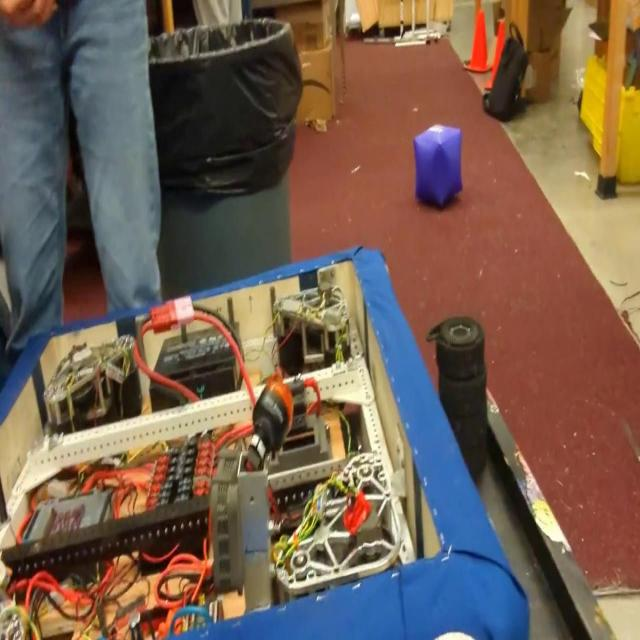frc_cube: (413, 123, 463, 209)
